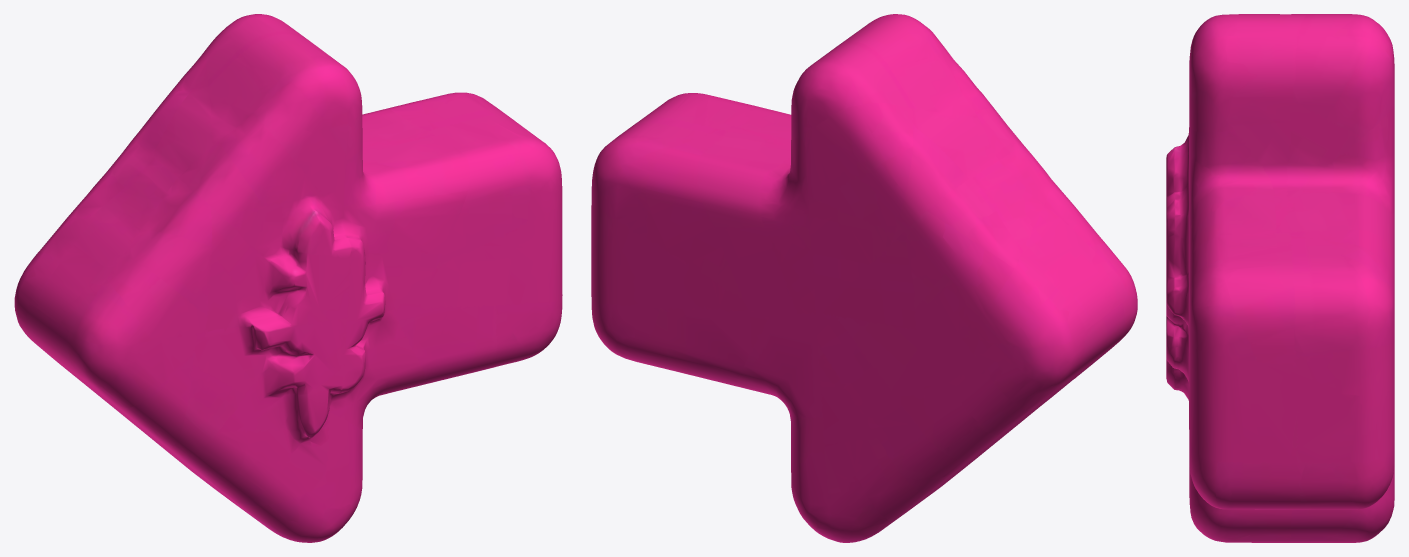
File: poplur_cube_directions_arrow.glb
The picture shows the model from 3 angles, left to right: view 1: azimuth 30°, elevation 25°; view 2: azimuth 150°, elevation 25°; view 3: azimuth 270°, elevation 25°; orthographic projection. The views are drawn at different scales.
Visible parts, largest first — view 1: mesh_node; view 2: mesh_node; view 3: mesh_node.
Boxes of the visible parts, bbox=[...] form: mesh_node: bbox=[14, 14, 562, 542]; mesh_node: bbox=[591, 14, 1137, 542]; mesh_node: bbox=[1166, 14, 1394, 542].
Size of the model in its own units: 1.9 by 1.81 by 0.7194.
Materials: 1 (1 with a texture image).
